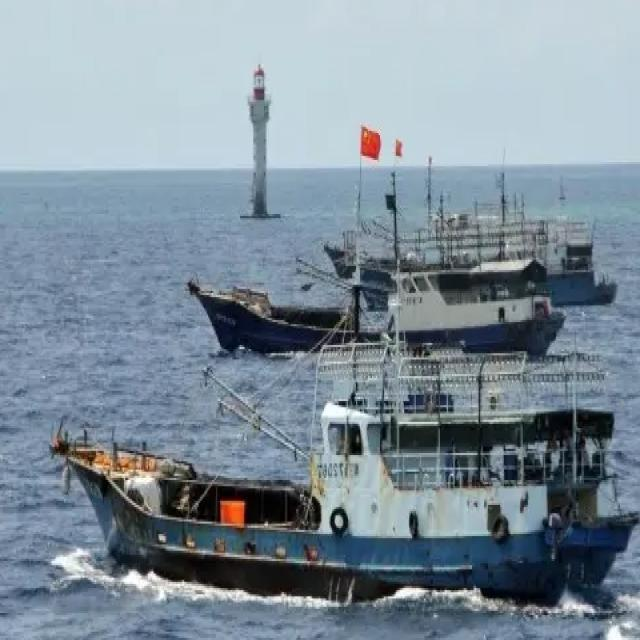fishing boat: (62, 348, 630, 588), (184, 221, 558, 351), (329, 174, 607, 304)
